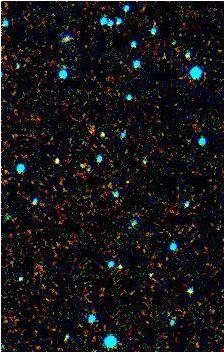star: (86, 119, 116, 149)
